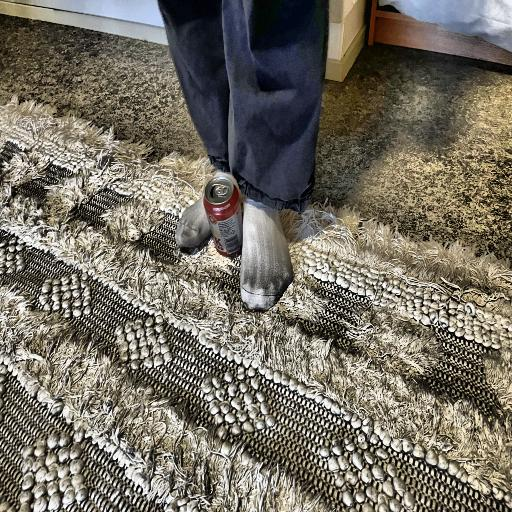koff: (194, 170, 256, 272)
